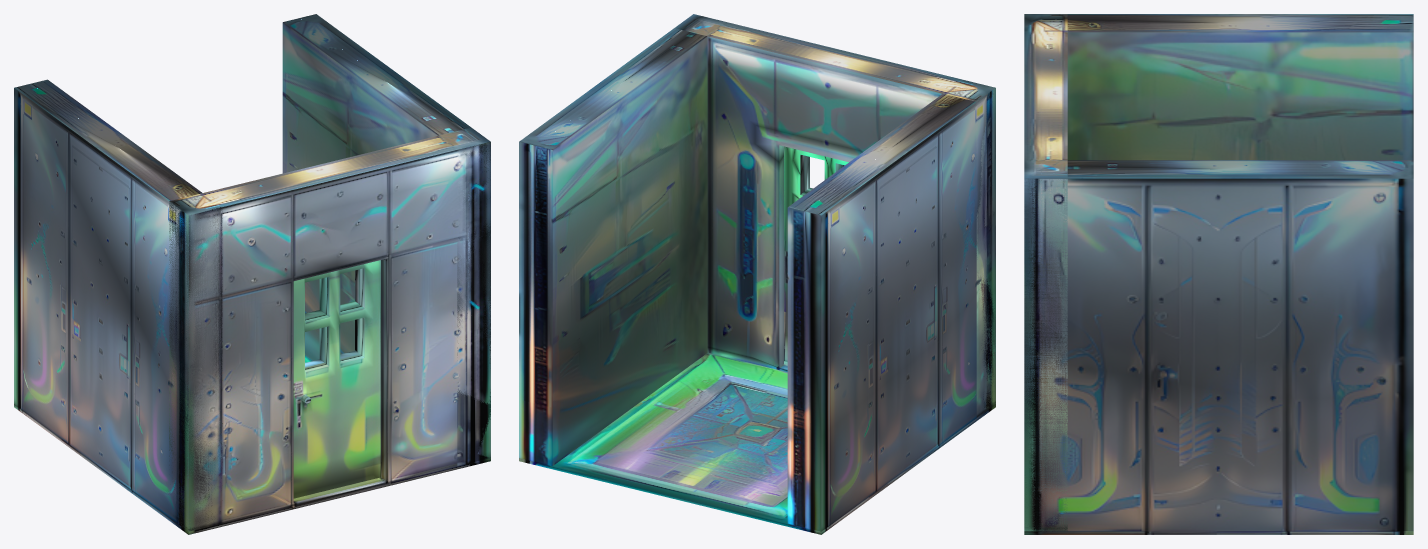
File: residentialBasicFloorWallDoor.glb
The picture shows the model from 3 angles, left to right: view 1: azimuth 30°, elevation 25°; view 2: azimuth 150°, elevation 25°; view 3: azimuth 270°, elevation 25°; orthographic projection. The views are drawn at different scales.
Parts seen in each view (by area): view 1: residentialBasicFloorWallDoor2; view 2: residentialBasicFloorWallDoor2; view 3: residentialBasicFloorWallDoor2.
Part boxes in pixels (box(x1,y1,x2,y2)): residentialBasicFloorWallDoor2: box(14, 14, 490, 534); residentialBasicFloorWallDoor2: box(519, 14, 995, 534); residentialBasicFloorWallDoor2: box(1024, 14, 1413, 534).
Bounding box in the file's own units: 1 × 1.01 × 1.
1 material, 1 textured.
